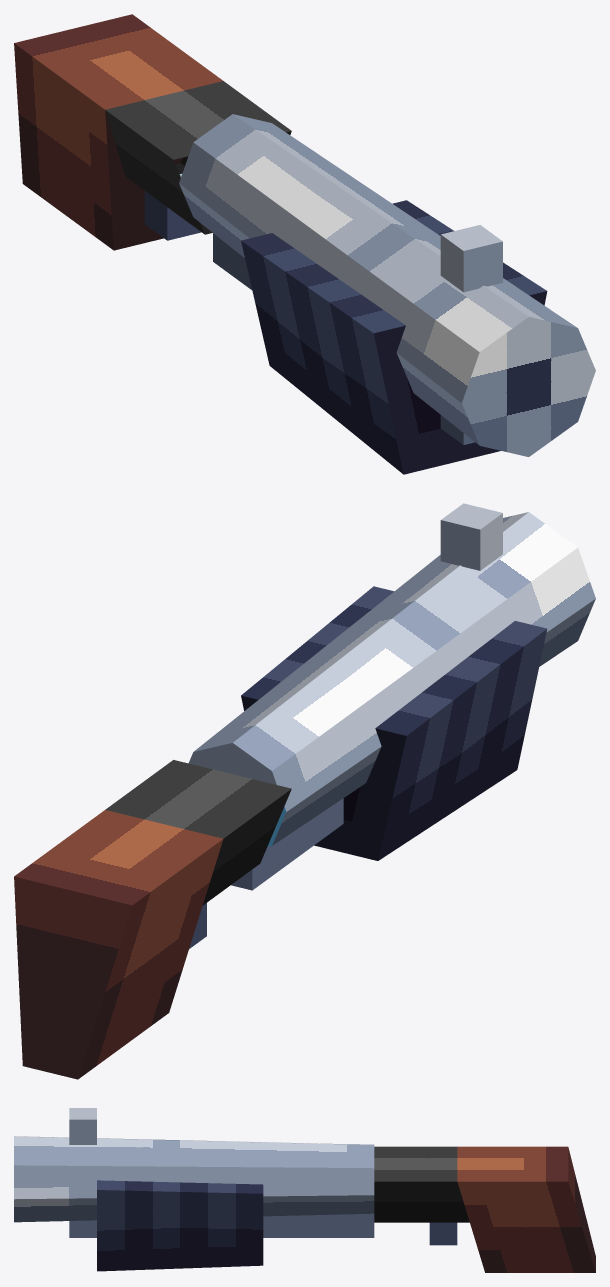
File: Shotgun.fbx
The picture shows the model from 3 angles, top to bottom: view 1: azimuth 30°, elevation 25°; view 2: azimuth 150°, elevation 25°; view 3: azimuth 270°, elevation 25°; orthographic projection. The views are drawn at different scales.
Visible parts, largest first — view 1: shotgun; view 2: shotgun; view 3: shotgun.
Part boxes in pixels (x1,y1,x2,y2): shotgun: (14,14,595,474); shotgun: (14,503,595,1079); shotgun: (14,1108,595,1272).
Size of the model in its own units: 27.5 by 37.5 by 131.
1 material, 1 textured.
